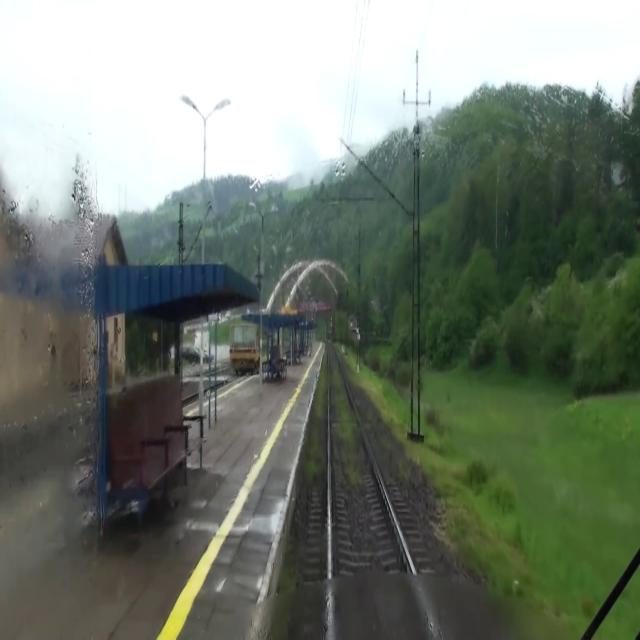rail-track: (329, 345, 437, 639)
